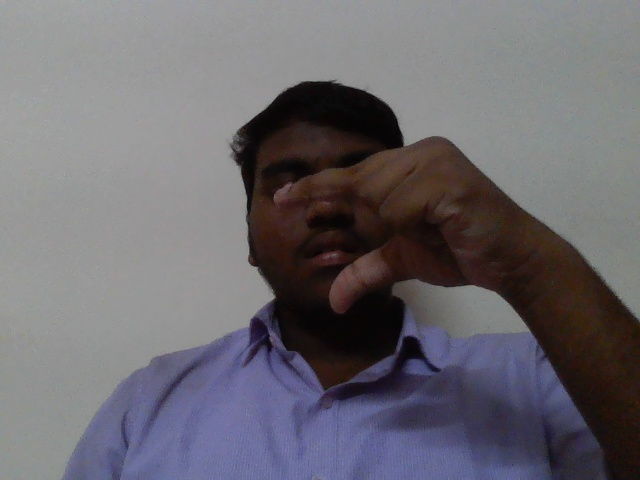No: (265, 131, 524, 310)
